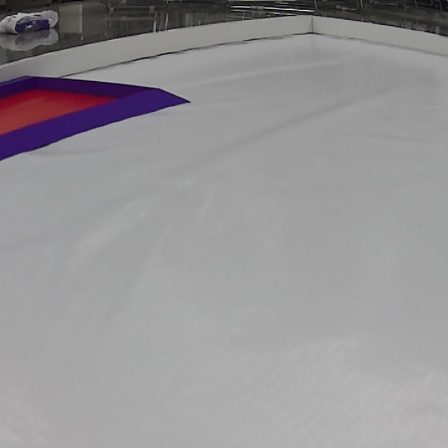red_aim: (0, 63, 201, 165)
